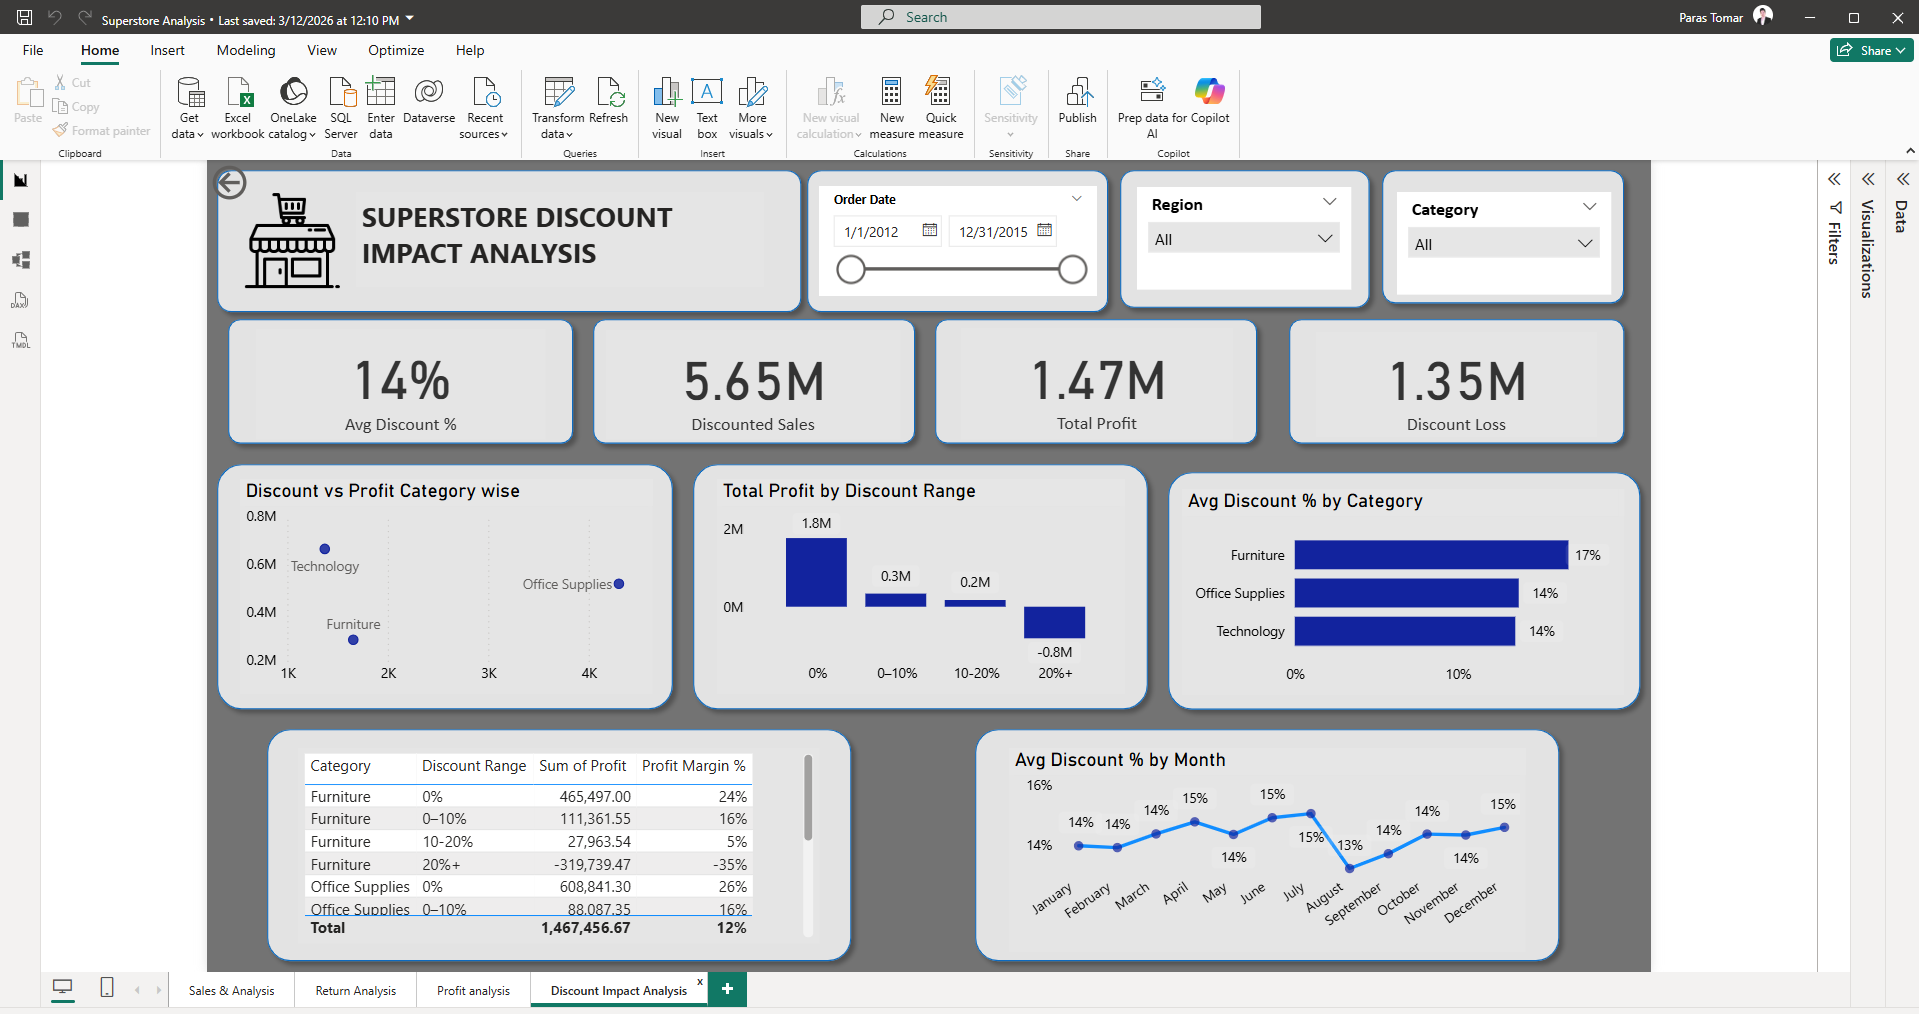

Layout of this report page (visuals, bound fields, positions):
{"tool":"powerbi","page":{"name":"Discount Impact Analysis","canvas":[1280,720],"ordinal":3},"visuals":[{"type":"shape","box":[0,0,535.9,144],"z":0},{"type":"textbox","box":[132.3,28.2,361.8,83.6],"z":1000},{"type":"shape","box":[800.5,0,239.3,140.1],"z":2000},{"type":"shape","box":[523.3,0,285,144],"z":3000},{"type":"slicer","fields":{"Values":["Order Table.Region"]},"box":[824.8,24.3,189.7,91.4],"z":4000},{"type":"slicer","fields":{"Values":["Order Table.Category"]},"box":[1055.3,38.9,187.7,72.9],"z":5000},{"type":"slicer","fields":{"Values":["Order Table.Order Date"]},"box":[542.7,23.3,246.1,97.3],"z":6000},{"type":"shape","box":[1032.9,0,232.5,136.2],"z":7000},{"type":"slicer","fields":{"Values":["Order Table.Category"]},"box":[1055.3,28.2,189.7,91.4],"z":8000},{"type":"image","box":[22.4,23.3,107,97.3],"z":9000},{"type":"shape","box":[9.7,132.3,323.9,128.4],"z":10000},{"type":"card","fields":{"Values":["Order Table.Avg Discount %"]},"box":[43.8,149.8,256.8,98.2],"z":11000},{"type":"shape","box":[333.6,132.3,303.5,128.4],"z":12000},{"type":"card","fields":{"Values":["Order Table.Discounted Sales"]},"box":[354,150.8,260.7,97.3],"z":13000},{"type":"shape","box":[637.1,132.3,303.5,128.4],"z":14000},{"type":"card","fields":{"Values":["Order Table.Total Profit"]},"box":[668.2,148.8,241.2,99.2],"z":15000},{"type":"shape","box":[940.5,127.4,316.1,133.3],"z":16000},{"type":"shape","box":[0,260.7,422.1,235.4],"z":17000},{"type":"clusteredColumnChart","title":"Profit Margin % by Discount Range","fields":{"Category":["Order Table.Discount Range"],"Y":["Order Table.Profit Margin %"]},"box":[29.2,283,365.7,190.6],"z":18000},{"type":"shape","box":[422.1,260.7,421.2,235.4],"z":19000},{"type":"clusteredColumnChart","fields":{"Category":["Order Table.Discount Range"],"Y":["Order Table.Total Profit"]},"box":[452.3,283,361.8,190.6],"z":20000},{"type":"shape","box":[842.3,276.2,436.7,228.6],"z":21000},{"type":"barChart","fields":{"Category":["Order Table.Category"],"Y":["Order Table.Avg Discount %"]},"box":[864.7,290.8,392,182.9],"z":22000},{"type":"shape","box":[44.7,496,535.9,223.7],"z":23000},{"type":"tableEx","fields":{"Values":["Order Table.Category","Order Table.Discount Range","Sum(Order Table.Profit)","Order Table.Profit Margin %"]},"box":[80.7,521.3,462,173.1],"z":24000},{"type":"actionButton","box":[0,0,100,40],"z":25000},{"type":"shape","box":[672.1,496,535.9,223.7],"z":26000},{"type":"lineChart","fields":{"Category":["Order Table.Month"],"Y":["Order Table.Avg Discount %"]},"box":[711,521.3,458.1,180.9],"z":27000},{"type":"card","fields":{"Values":["Order Table.Discount Loss"]},"box":[965.8,150.8,270.4,97.3],"z":28000},{"type":"textbox","box":[982.4,140.1,246.1,28.2],"z":29000}]}

Visuals, with their boxes on the page's 1280x720 design canvas (x1, y1, x2, y2). These are canvas units, not pixel positions in the 1919x1014 screenshot, which may show the page scaled, cropped or inside an application window:
shape: (left=0, top=0, right=536, bottom=144)
textbox: (left=132, top=28, right=494, bottom=112)
shape: (left=800, top=0, right=1040, bottom=140)
shape: (left=523, top=0, right=808, bottom=144)
slicer - Order Table.Region: (left=825, top=24, right=1014, bottom=116)
slicer - Order Table.Category: (left=1055, top=39, right=1243, bottom=112)
slicer - Order Table.Order Date: (left=543, top=23, right=789, bottom=121)
shape: (left=1033, top=0, right=1265, bottom=136)
slicer - Order Table.Category: (left=1055, top=28, right=1245, bottom=120)
image: (left=22, top=23, right=129, bottom=121)
shape: (left=10, top=132, right=334, bottom=261)
card - Order Table.Avg Discount %: (left=44, top=150, right=301, bottom=248)
shape: (left=334, top=132, right=637, bottom=261)
card - Order Table.Discounted Sales: (left=354, top=151, right=615, bottom=248)
shape: (left=637, top=132, right=941, bottom=261)
card - Order Table.Total Profit: (left=668, top=149, right=909, bottom=248)
shape: (left=940, top=127, right=1257, bottom=261)
shape: (left=0, top=261, right=422, bottom=496)
"Profit Margin % by Discount Range" clusteredColumnChart: (left=29, top=283, right=395, bottom=474)
shape: (left=422, top=261, right=843, bottom=496)
clusteredColumnChart - Order Table.Discount Range x Order Table.Total Profit: (left=452, top=283, right=814, bottom=474)
shape: (left=842, top=276, right=1279, bottom=505)
barChart - Order Table.Category x Order Table.Avg Discount %: (left=865, top=291, right=1257, bottom=474)
shape: (left=45, top=496, right=581, bottom=720)
tableEx - Order Table.Category x Order Table.Discount Range: (left=81, top=521, right=543, bottom=694)
actionButton: (left=0, top=0, right=100, bottom=40)
shape: (left=672, top=496, right=1208, bottom=720)
lineChart - Order Table.Month x Order Table.Avg Discount %: (left=711, top=521, right=1169, bottom=702)
card - Order Table.Discount Loss: (left=966, top=151, right=1236, bottom=248)
textbox: (left=982, top=140, right=1228, bottom=168)
